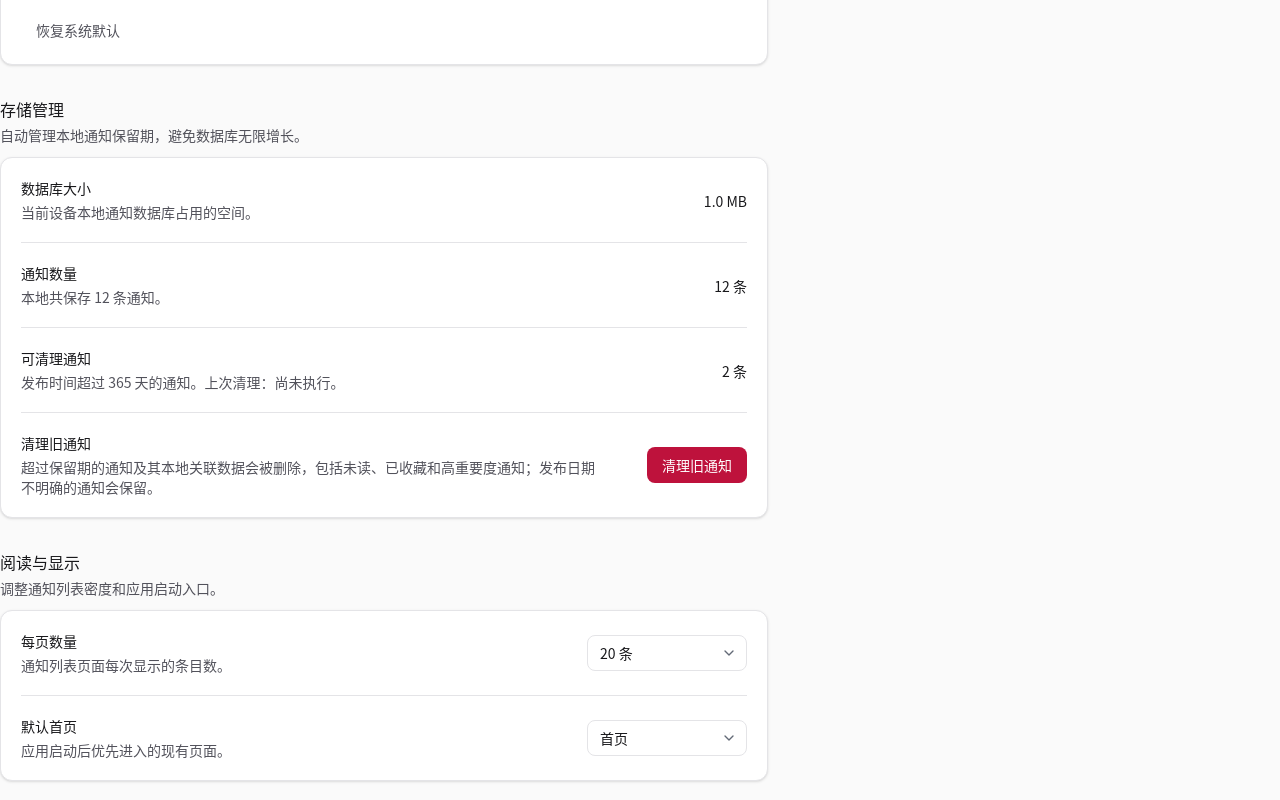
Test: SettingsPage › shows storage status and only runs cleanup after confirmation
(page scrolled)
expect the text "1.0 MB" is shown: met, box x1=704 y1=191 x2=747 y2=211
expect the text "2 条" is shown: met, box x1=722 y1=361 x2=747 y2=381
Click the button "清理旧通知".
click(697, 465)  # box x1=647 y1=447 x2=747 y2=483
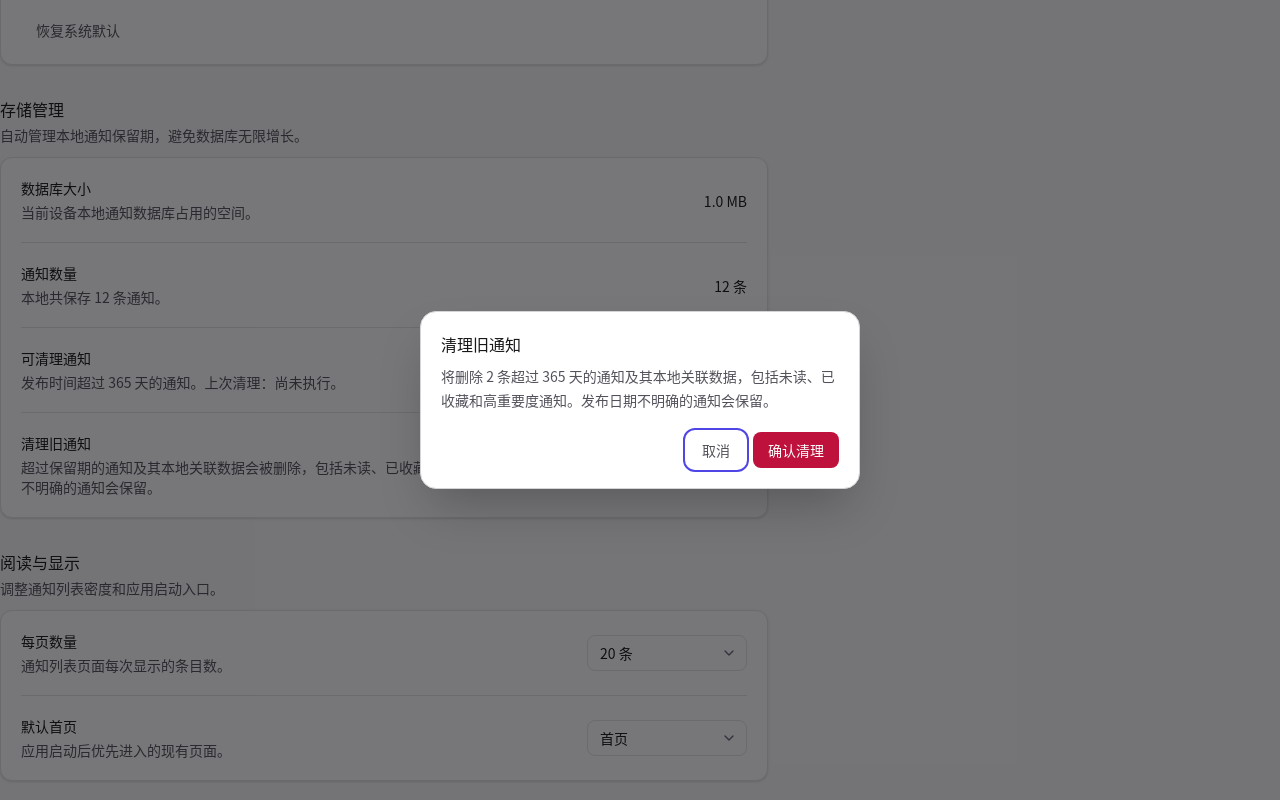
expect the dialog "清理旧通知" shows "2 条超过 365 天的通知": met, box x1=420 y1=311 x2=860 y2=489
expect the dialog "清理旧通知" shows "包括未读、已收藏和高重要度通知": met, box x1=441 y1=366 x2=835 y2=410
expect the dialog "清理旧通知" shows "发布日期不明确的通知会保留": met, box x1=441 y1=366 x2=835 y2=410
Click the button "确认清理".
click(796, 450)  # box x1=753 y1=432 x2=839 y2=468
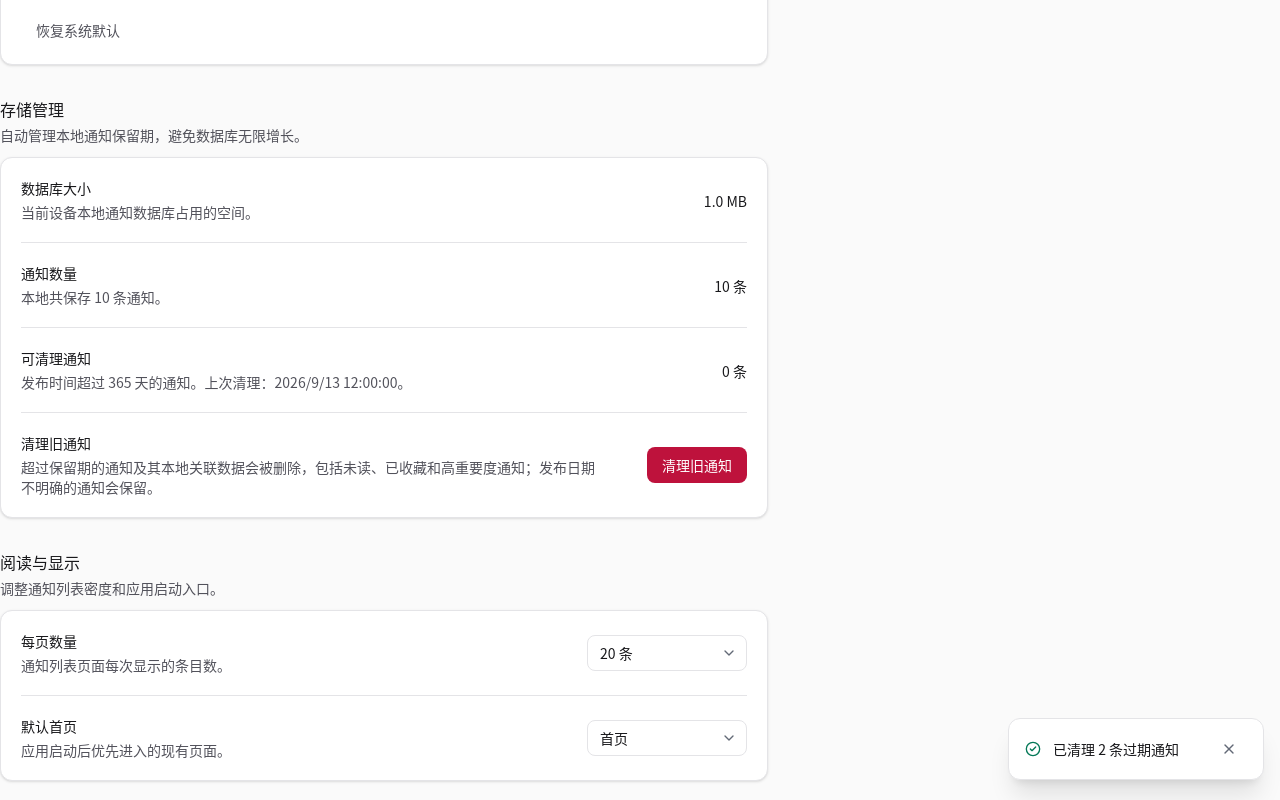
expect the text "0 条" is shown: met, box x1=722 y1=361 x2=747 y2=381
